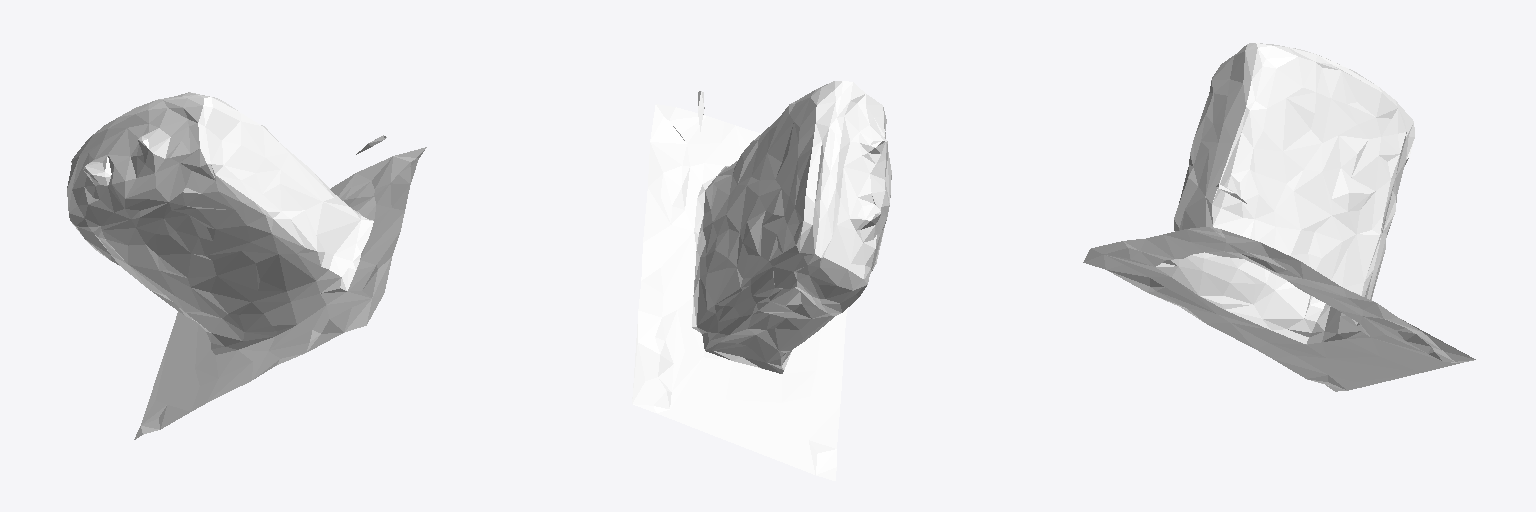
File: fblen.obj
3 renders of one model, left to right at view 1: azimuth 30°, elevation 25°; view 2: azimuth 150°, elevation 25°; view 3: azimuth 270°, elevation 25°, orthographic.
Visible parts, largest first — view 1: fan_new; view 2: fan_new; view 3: fan_new.
Part boxes in pixels (bbox=[...]): fan_new: bbox=[67, 92, 426, 439]; fan_new: bbox=[632, 81, 891, 480]; fan_new: bbox=[1083, 43, 1475, 391].
Size of the model in its own units: 2.13 by 2.62 by 2.56.